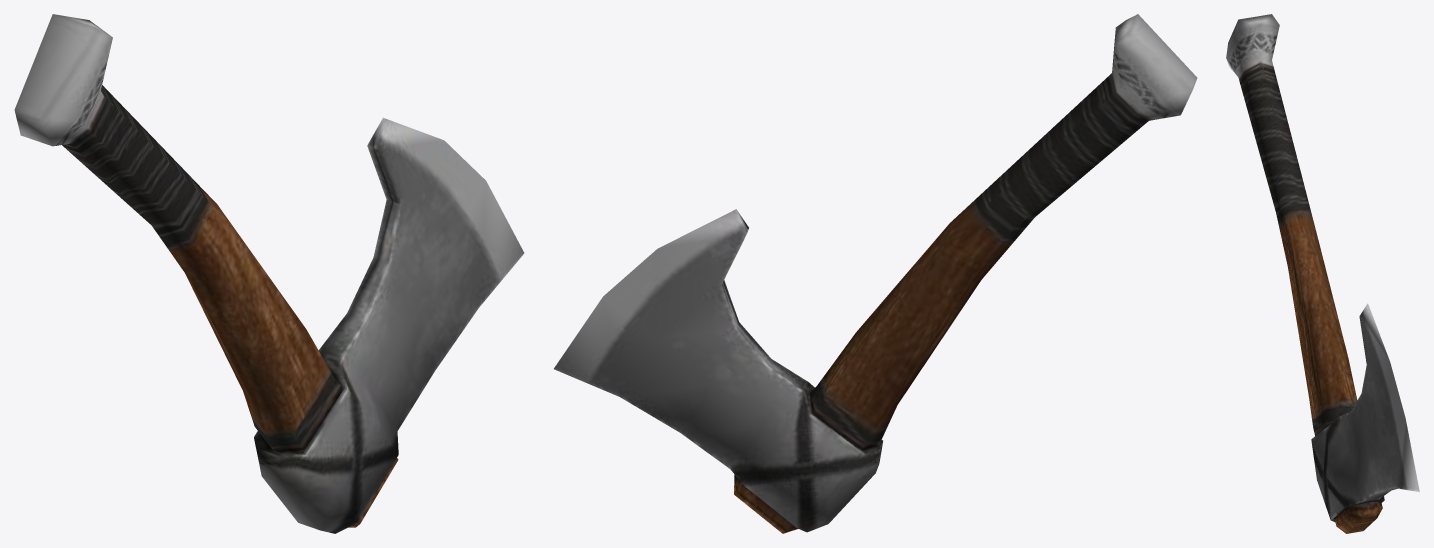
File: weapon-bronzeweapons.glb
3 views of the same model, side by side, from view 1: azimuth 30°, elevation 25°; view 2: azimuth 150°, elevation 25°; view 3: azimuth 270°, elevation 25° (orthographic). The views are drawn at different scales.
Size of the model in its own units: 0.8666 by 0.8268 by 0.3556.
Materials: 1 (1 with a texture image).
